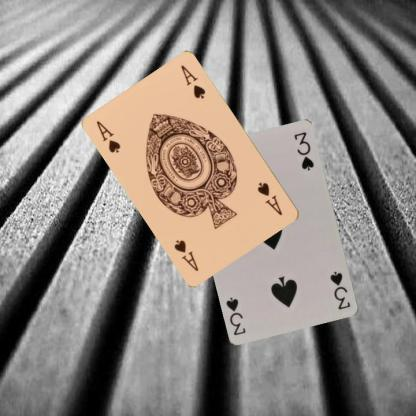3s: (327, 269, 352, 311)
As: (255, 179, 284, 217), (94, 118, 122, 154)
